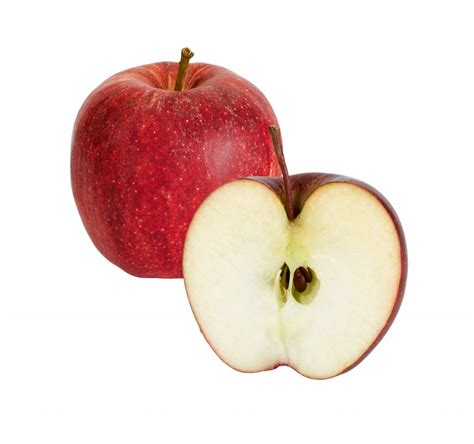apple: (64, 54, 294, 288)
